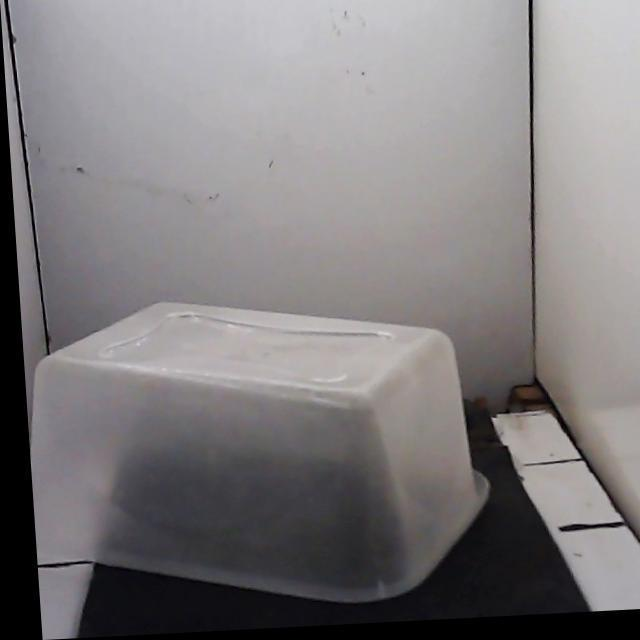plastico: (31, 303, 487, 601)
